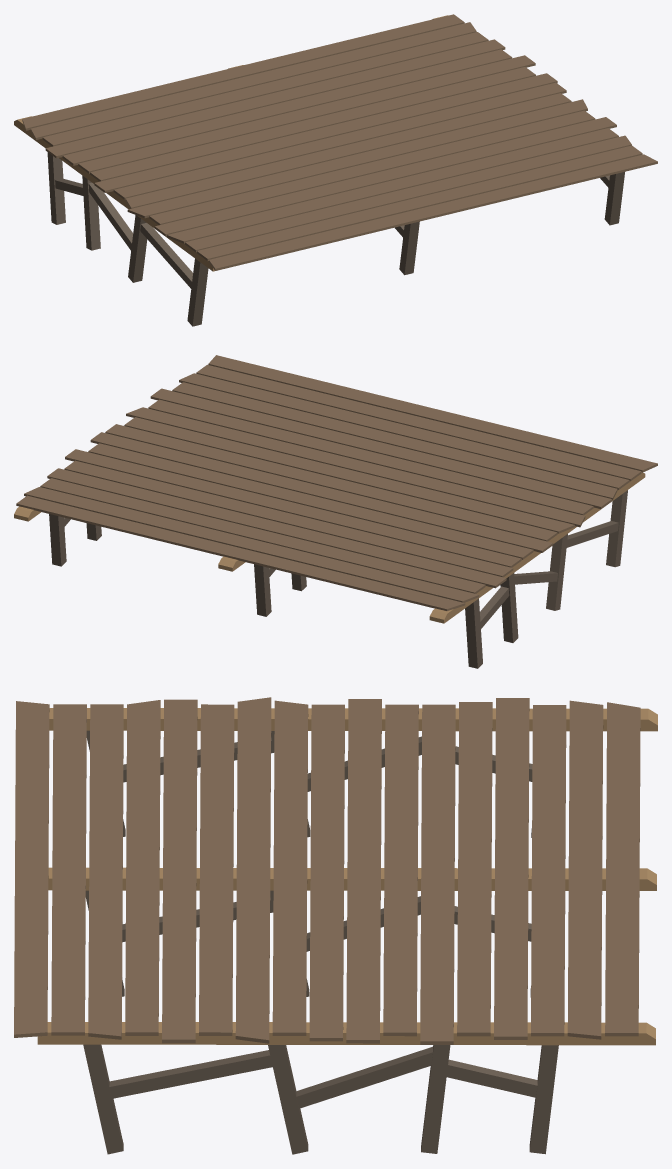
The model's file is bridge.gltf.
The picture shows the model from 3 angles, top to bottom: view 1: azimuth 30°, elevation 25°; view 2: azimuth 150°, elevation 25°; view 3: azimuth 270°, elevation 25°; orthographic projection. The views are drawn at different scales.
Visible parts, largest first — view 1: bridge; view 2: bridge; view 3: bridge.
Part boxes in pixels (x1=…): bridge: x1=14, y1=14, x2=657, y2=326; bridge: x1=14, y1=355, x2=657, y2=668; bridge: x1=14, y1=697, x2=657, y2=1154.
Bounding box in the file's own units: 9.31 × 1.6 × 7.36.
